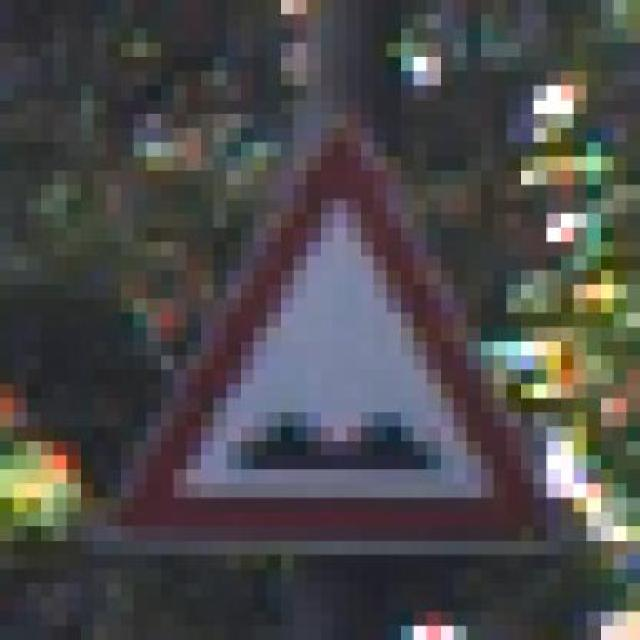Uneven Road: (80, 115, 560, 543)
